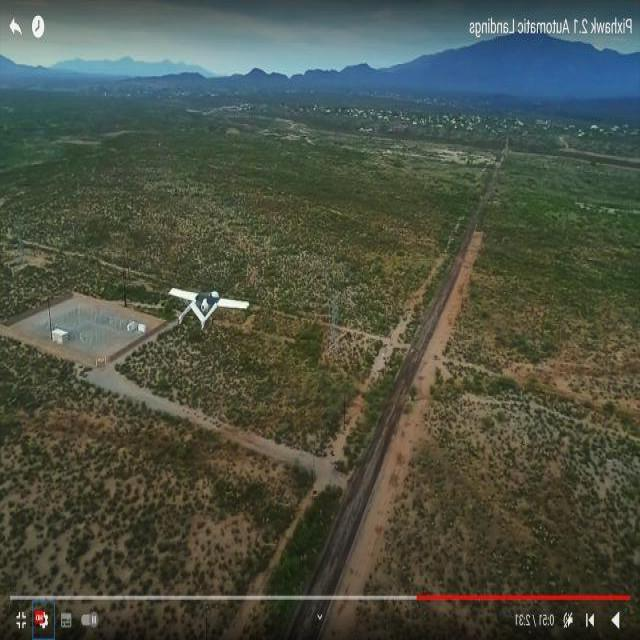iha: (201, 287, 218, 332)
